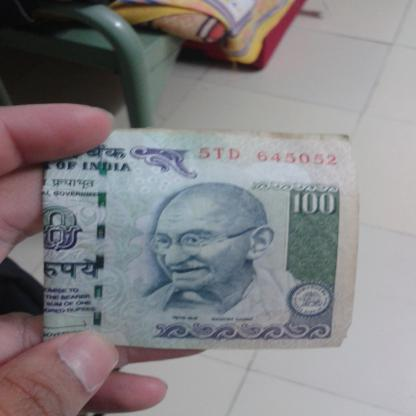Old100Front: (40, 132, 360, 350)
